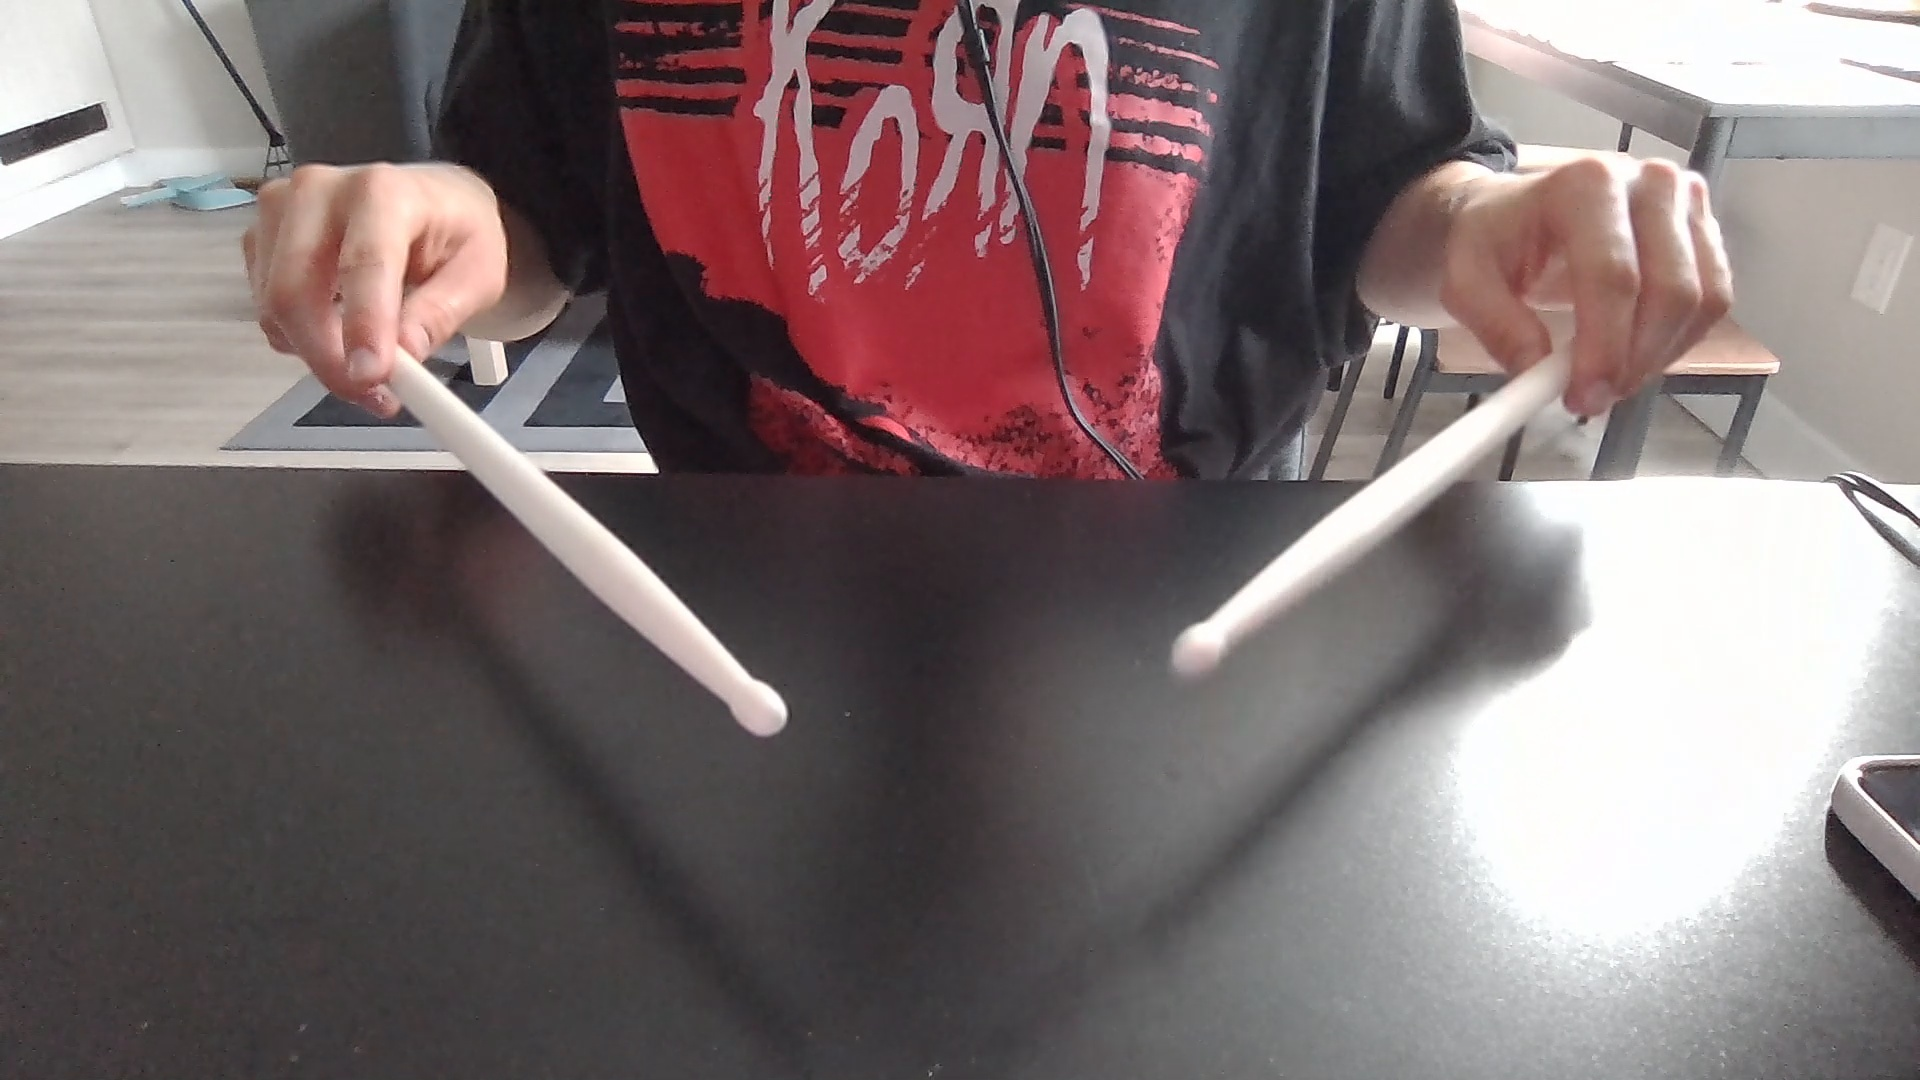left_stick: (713, 650, 800, 752)
right_stick: (1160, 593, 1246, 704)
